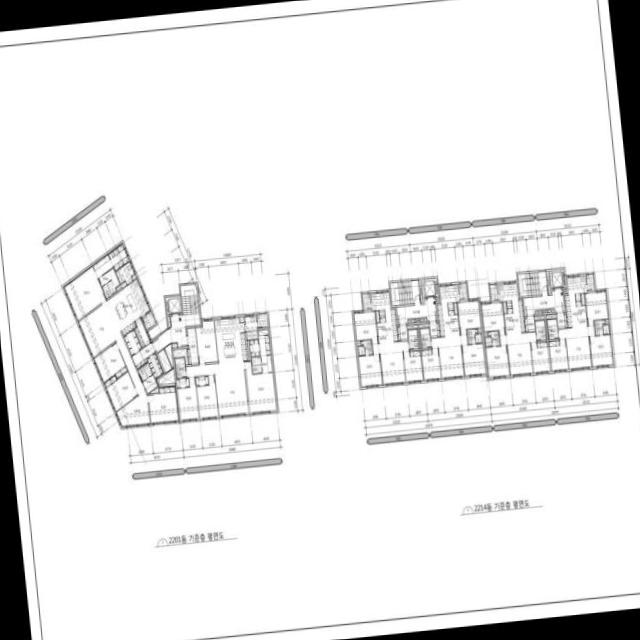background: (0, 0, 640, 640)
space_balconi: (142, 312, 156, 330), (257, 314, 268, 328)
space_bedroom: (64, 266, 106, 321), (245, 361, 277, 414), (104, 372, 138, 412), (94, 343, 128, 383), (148, 386, 179, 424), (197, 375, 219, 419), (196, 319, 218, 363), (178, 377, 199, 421), (585, 290, 609, 325), (353, 311, 378, 344), (458, 300, 482, 334), (462, 344, 487, 376), (485, 346, 510, 378), (481, 302, 505, 335), (358, 355, 382, 387), (590, 335, 614, 367), (549, 340, 569, 372), (403, 351, 423, 383), (531, 342, 551, 374), (422, 349, 441, 381), (196, 376, 209, 386), (177, 378, 189, 388)
space_dressroom: (108, 243, 130, 271), (258, 329, 270, 355), (249, 340, 260, 356)
space_elevator: (166, 296, 182, 315), (550, 270, 566, 289), (423, 279, 438, 298)
space_elevator_hall: (153, 269, 201, 353), (524, 272, 565, 315), (397, 280, 437, 324)
space_front: (132, 343, 155, 368), (187, 327, 199, 365), (147, 353, 164, 379), (124, 330, 141, 356), (397, 325, 408, 341), (557, 313, 568, 328), (525, 316, 535, 332), (430, 322, 440, 337)
space_kitchen: (108, 279, 151, 336), (214, 317, 248, 363), (370, 291, 398, 344), (498, 282, 525, 335), (564, 275, 588, 328), (437, 284, 460, 337)
space_living_room: (78, 301, 150, 427), (186, 361, 249, 417), (558, 326, 595, 370), (431, 335, 468, 379), (500, 332, 536, 376), (373, 341, 409, 385)
space_other: (134, 318, 151, 348), (116, 261, 135, 285), (158, 349, 172, 373), (245, 315, 258, 340), (158, 368, 175, 385), (174, 349, 188, 365), (165, 344, 174, 368), (546, 271, 551, 294), (116, 282, 127, 291), (419, 280, 423, 303), (247, 341, 251, 360), (407, 324, 418, 329), (546, 314, 557, 319), (150, 387, 159, 393), (419, 323, 429, 328), (535, 315, 545, 320), (503, 302, 507, 313), (581, 294, 585, 305), (376, 311, 380, 322), (454, 303, 458, 314), (168, 317, 171, 328), (132, 274, 137, 280), (172, 343, 177, 348), (421, 318, 427, 322), (548, 309, 554, 313), (240, 316, 244, 322), (484, 332, 488, 337), (606, 319, 610, 324), (478, 328, 482, 333), (408, 320, 414, 323), (542, 310, 548, 313), (536, 311, 542, 314), (356, 341, 360, 345), (415, 319, 420, 322), (563, 290, 566, 292), (436, 299, 439, 301)
space_outdoor_room: (459, 283, 468, 300), (587, 274, 595, 291), (490, 284, 498, 301), (363, 293, 371, 310)
space_staircase: (518, 272, 541, 297), (391, 281, 413, 306), (188, 284, 199, 315)
space_toilet: (99, 268, 120, 299), (93, 254, 113, 278), (143, 375, 158, 393), (535, 320, 547, 341), (408, 329, 419, 349), (175, 358, 186, 378), (420, 328, 431, 348), (547, 319, 558, 339), (261, 356, 272, 373), (361, 340, 373, 355), (488, 331, 500, 346), (467, 329, 478, 344), (594, 320, 605, 335), (143, 363, 153, 378), (138, 367, 148, 381), (252, 365, 262, 373), (251, 357, 261, 365), (358, 346, 365, 356), (475, 334, 482, 343), (486, 337, 492, 347), (603, 325, 609, 334)
